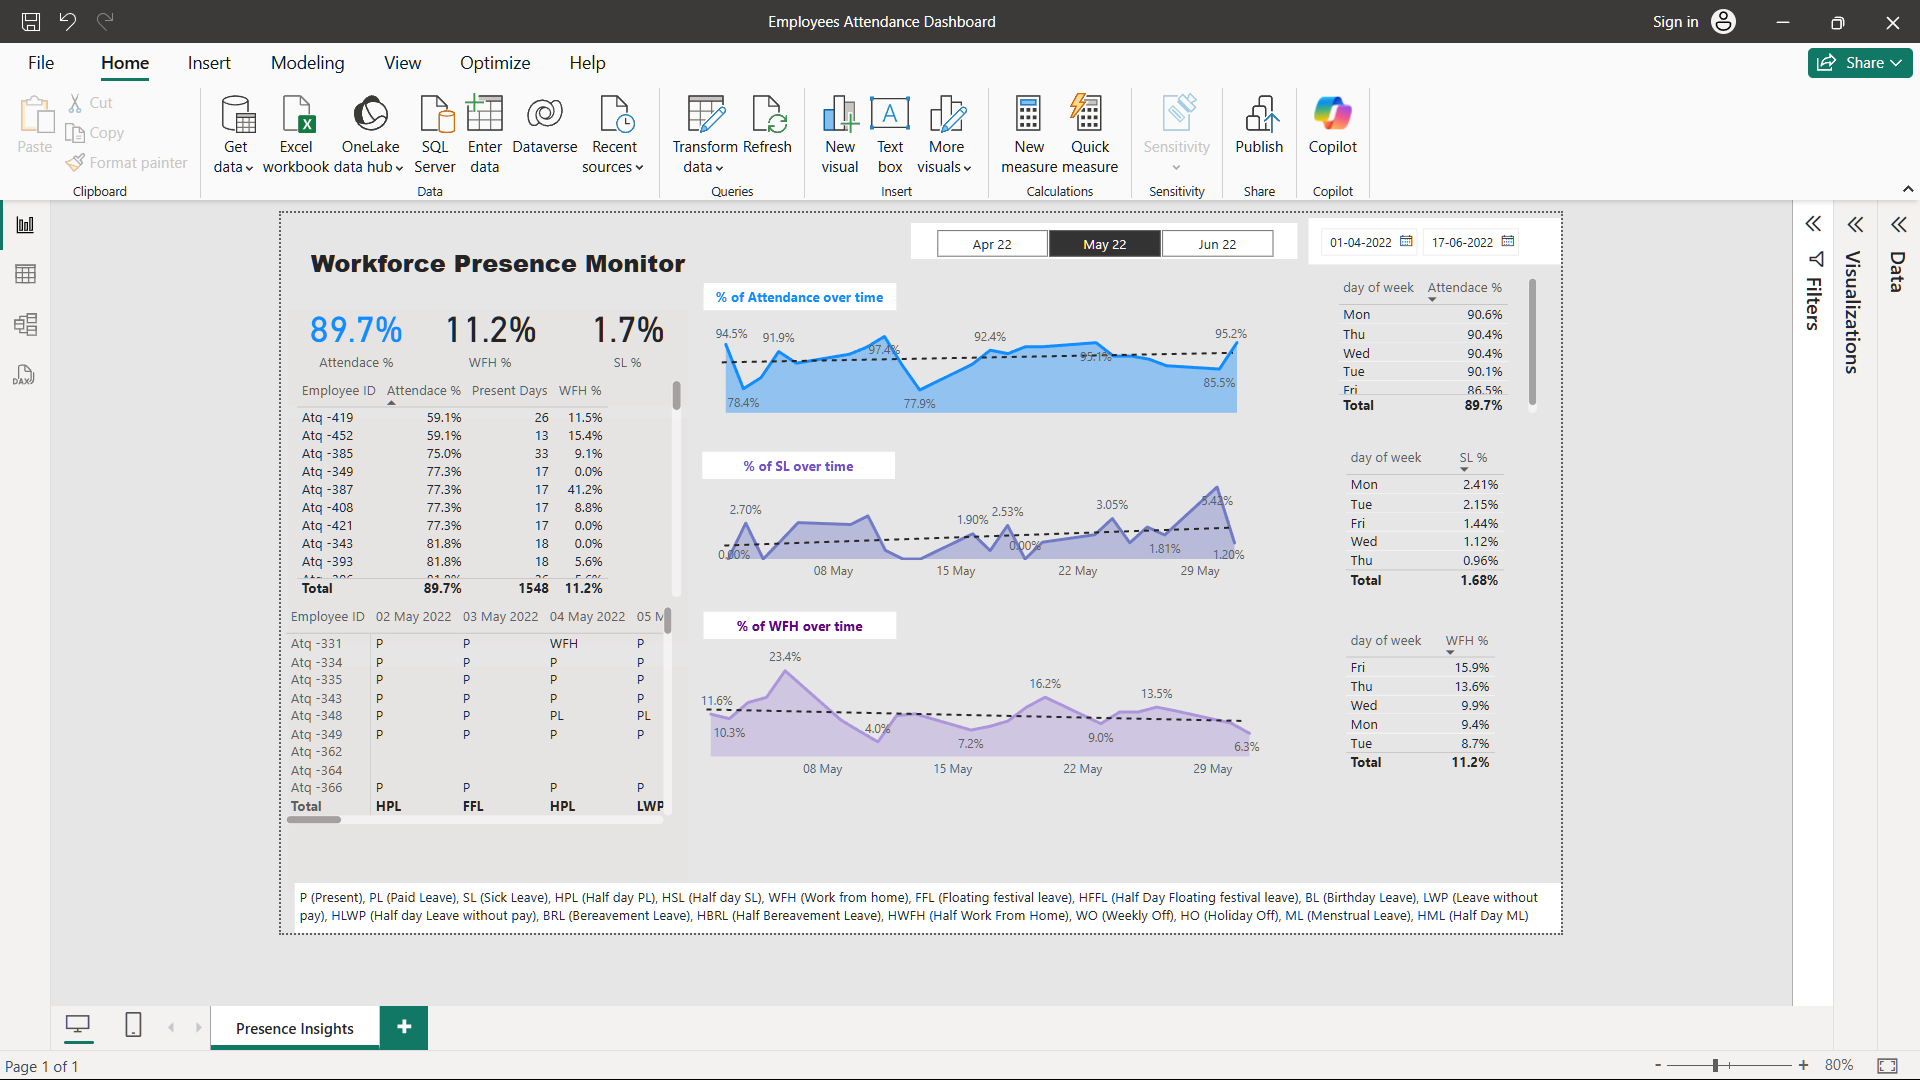

The dashboard page shown, as its layout file describes it:
{"tool":"powerbi","page":{"name":"Presence Insights","canvas":[1280,720],"ordinal":0},"visuals":[{"type":"textbox","box":[7.8,205.6,399.9,225.5],"z":0},{"type":"textbox","box":[7.8,453.3,399.8,227.6],"z":1000},{"type":"textbox","box":[7.8,98,399.9,95.4],"z":2000},{"type":"tableEx","fields":{"Values":["Final Data.Employee ID","Measures (2).Attendace %","Measures (2).Present Days","Measures (2).WFH %"]},"box":[10,162.5,395,226.2],"z":3000},{"type":"slicer","fields":{"Values":["Final Data.Date"]},"box":[1027.3,5.2,252.7,46.3],"z":4000},{"type":"slicer","fields":{"Values":["Final Data.MMM YY"]},"box":[630,10,386.2,36.2],"z":5000},{"type":"areaChart","fields":{"Category":["Final Data.MMM YY","Final Data.Date"],"Y":["Measures (2).WFH %"]},"box":[405,420,588.8,153.8],"z":6000},{"type":"areaChart","fields":{"Category":["Final Data.WeekNo","Final Data.Date"],"Y":["Measures (2).Attendace %"]},"box":[430,102.5,541.2,102.5],"z":7000},{"type":"card","fields":{"Values":["Measures (2).Attendace %"]},"box":[13.8,73.8,123.8,96.2],"z":8000},{"type":"card","fields":{"Values":["Measures (2).WFH %"]},"box":[140,73.8,138.8,96.2],"z":9000},{"type":"areaChart","fields":{"Category":["Final Data.MMM YY","Final Data.Date"],"Y":["Measures (2).SL %"]},"box":[422.5,252.5,556.2,123.8],"z":10000},{"type":"card","fields":{"Values":["Measures (2).SL %"]},"box":[286.2,73.8,121.2,96.2],"z":11000},{"type":"textbox","box":[422.5,70,192.5,27.5],"z":12000},{"type":"textbox","box":[421.2,238.8,192.5,27.5],"z":13000},{"type":"textbox","box":[422.5,398.8,192.5,27.5],"z":14000},{"type":"pivotTable","fields":{"Rows":["Final Data.Employee ID"],"Columns":["Final Data.Date"],"Values":["Min(Final Data.Value)"]},"box":[0,388.8,396.2,227.5],"z":15000},{"type":"textbox","box":[13.8,670,1266.2,50],"z":16000},{"type":"tableEx","fields":{"Values":["Final Data.day of week","Measures (2).Attendace %"]},"box":[1051.2,60,210,145],"z":17000},{"type":"tableEx","fields":{"Values":["Final Data.day of week","Measures (2).SL %"]},"box":[1058.8,230,191.2,167.5],"z":18000},{"type":"tableEx","fields":{"Values":["Final Data.day of week","Measures (2).WFH %"]},"box":[1058.8,412.5,182.5,166.2],"z":19000},{"type":"textbox","box":[25,27.5,397.5,47.5],"z":20000}]}

Visuals, with their boxes on the page's 1280x720 design canvas (x1, y1, x2, y2). These are canvas units, not pixel positions in the 1920x1080 screenshot, which may show the page scaled, cropped or inside an application window:
textbox: 8,206,408,431
textbox: 8,453,408,681
textbox: 8,98,408,193
tableEx - Final Data.Employee ID x Measures (2).Attendace %: 10,162,405,389
slicer - Final Data.Date: 1027,5,1280,52
slicer - Final Data.MMM YY: 630,10,1016,46
areaChart - Final Data.MMM YY x Final Data.Date: 405,420,994,574
areaChart - Final Data.WeekNo x Final Data.Date: 430,102,971,205
card - Measures (2).Attendace %: 14,74,138,170
card - Measures (2).WFH %: 140,74,279,170
areaChart - Final Data.MMM YY x Final Data.Date: 422,252,979,376
card - Measures (2).SL %: 286,74,407,170
textbox: 422,70,615,98
textbox: 421,239,614,266
textbox: 422,399,615,426
pivotTable - Final Data.Employee ID x Final Data.Date: 0,389,396,616
textbox: 14,670,1280,720
tableEx - Final Data.day of week x Measures (2).Attendace %: 1051,60,1261,205
tableEx - Final Data.day of week x Measures (2).SL %: 1059,230,1250,398
tableEx - Final Data.day of week x Measures (2).WFH %: 1059,412,1241,579
textbox: 25,28,422,75
